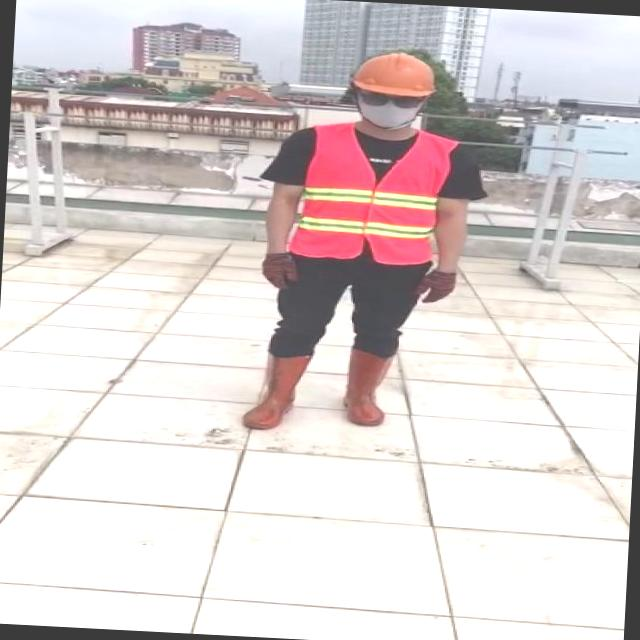boots: (242, 349, 316, 435), (344, 350, 394, 428)
gloves: (262, 252, 298, 290), (417, 270, 456, 302)
vest: (293, 121, 457, 268)
